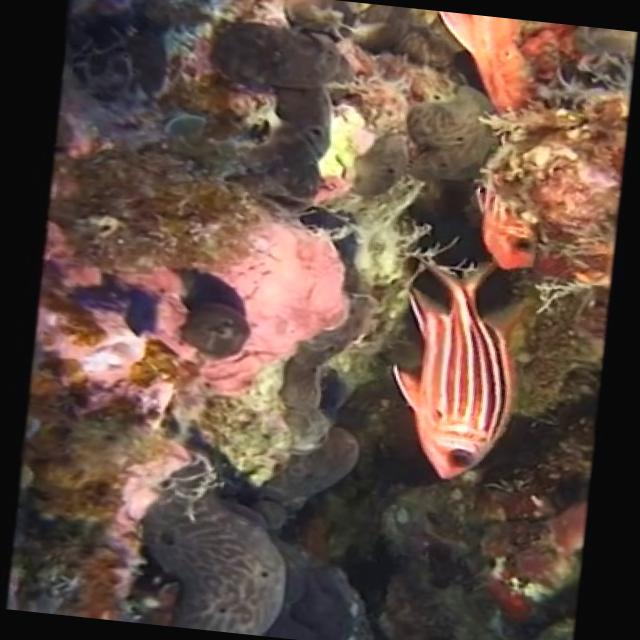Asker Baligi: (376, 248, 532, 488)
